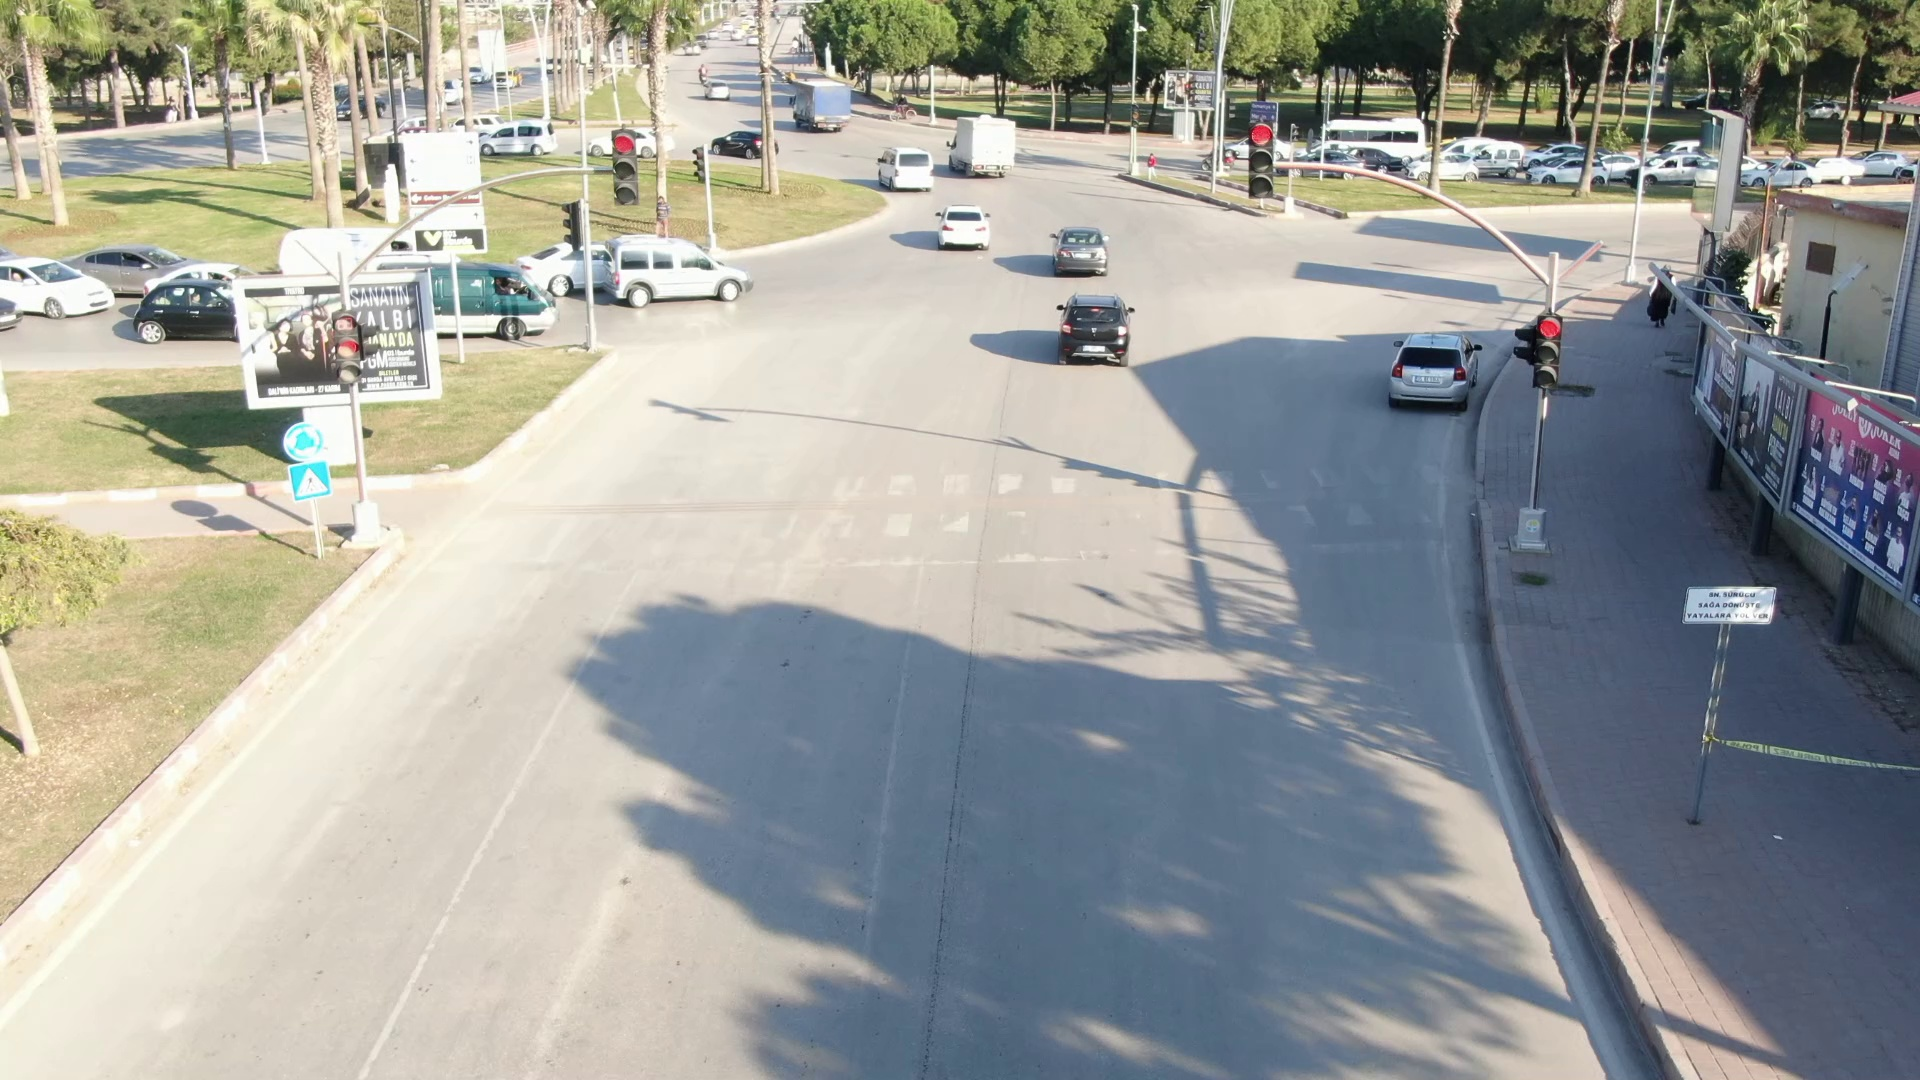car: (593, 223, 767, 324), (1371, 313, 1494, 421), (1038, 291, 1154, 371), (934, 111, 1034, 191), (918, 194, 1005, 262), (1043, 218, 1124, 284), (783, 78, 866, 140), (861, 138, 942, 200), (702, 115, 789, 166)
